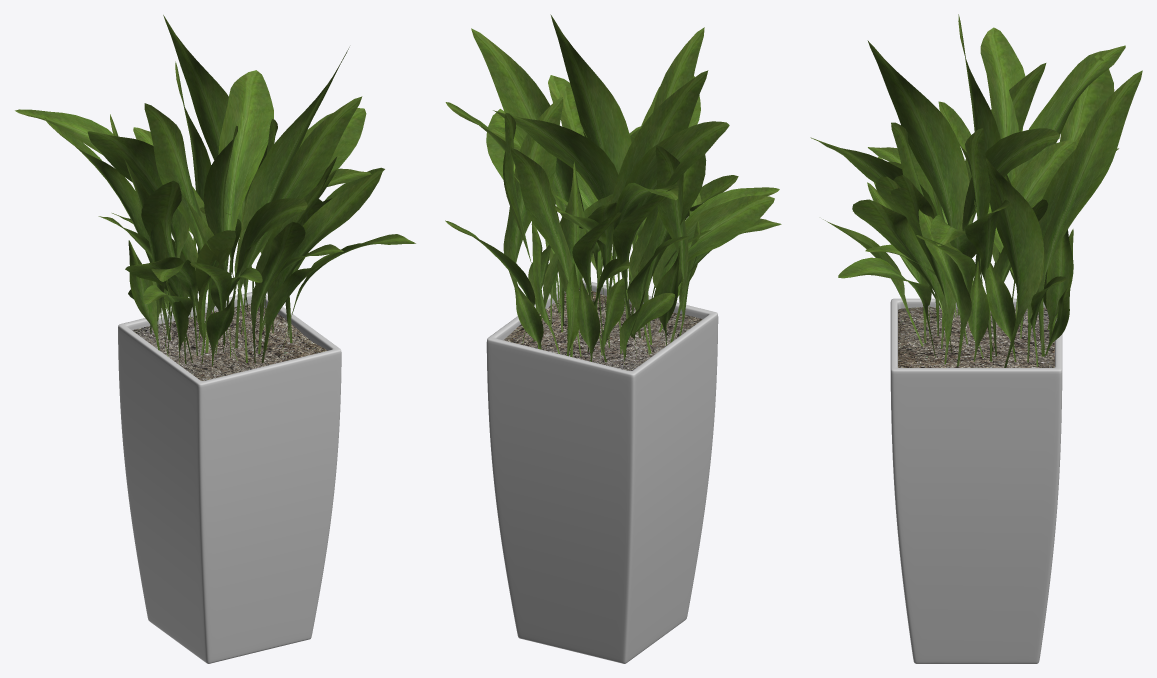
The model's file is pianta_sx.glb.
3 views of the same model, side by side, from view 1: azimuth 30°, elevation 25°; view 2: azimuth 150°, elevation 25°; view 3: azimuth 270°, elevation 25° (orthographic). The views are drawn at different scales.
Parts seen in each view (by area): view 1: Vaso_sx, Foglie_sx, Ghiaia_sx; view 2: Vaso_sx, Foglie_sx, Ghiaia_sx; view 3: Foglie_sx, Vaso_sx, Ghiaia_sx.
Boxes of the visible parts, <box> form: Vaso_sx: <box>118,292,341,663</box>; Foglie_sx: <box>15,15,415,366</box>; Ghiaia_sx: <box>132,304,327,380</box>; Vaso_sx: <box>486,279,718,663</box>; Foglie_sx: <box>445,14,781,364</box>; Ghiaia_sx: <box>503,288,702,370</box>; Foglie_sx: <box>810,14,1142,367</box>; Vaso_sx: <box>890,298,1062,663</box>; Ghiaia_sx: <box>898,307,1054,367</box>.
Bounding box in the file's own units: 0.7321 × 1.36 × 0.7095.
Materials: 3 (2 with a texture image).
